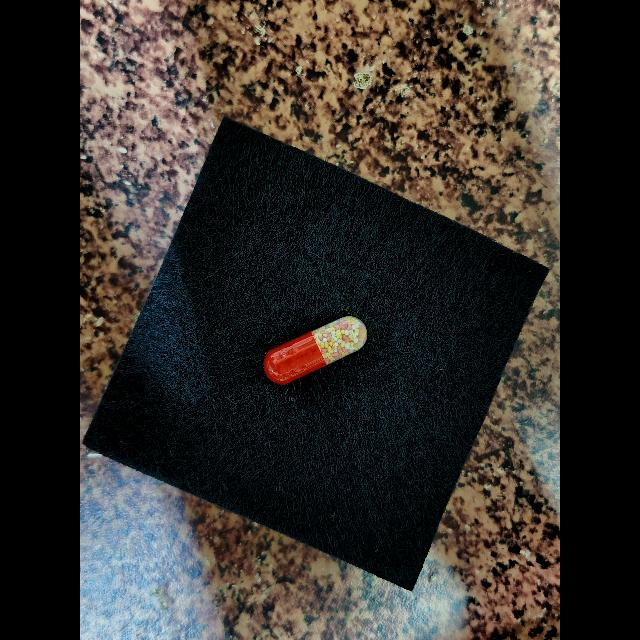Intact Capsule: (264, 316, 367, 384)
